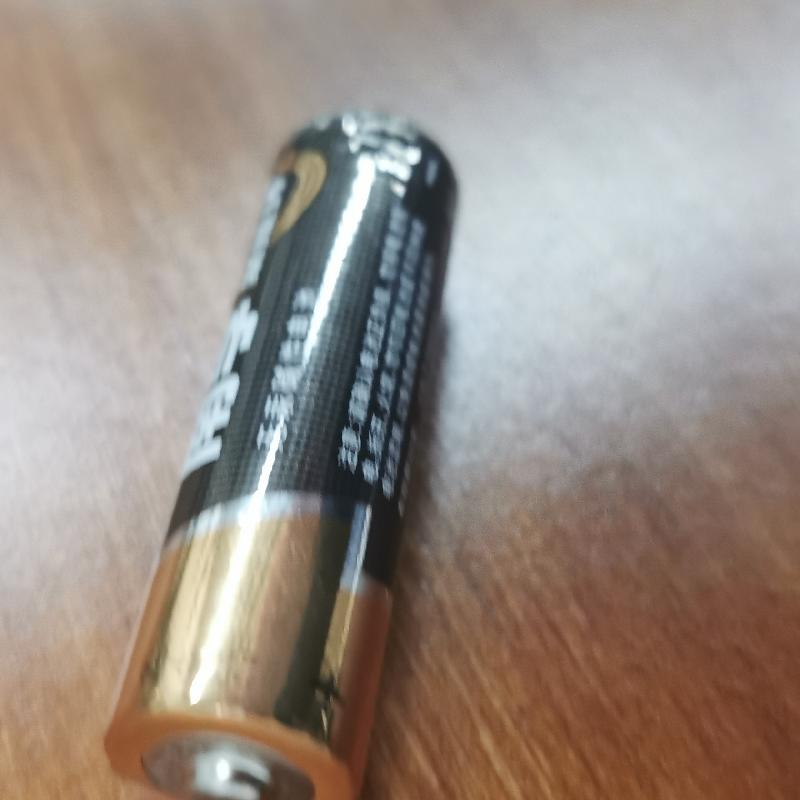battery: (96, 101, 465, 798)
